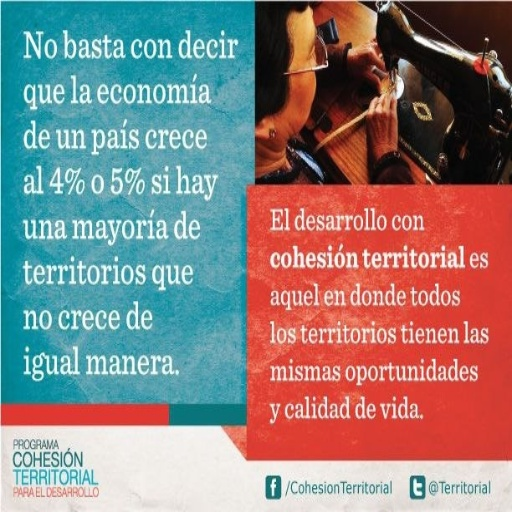hand: (345, 32, 385, 96), (369, 70, 406, 136)
